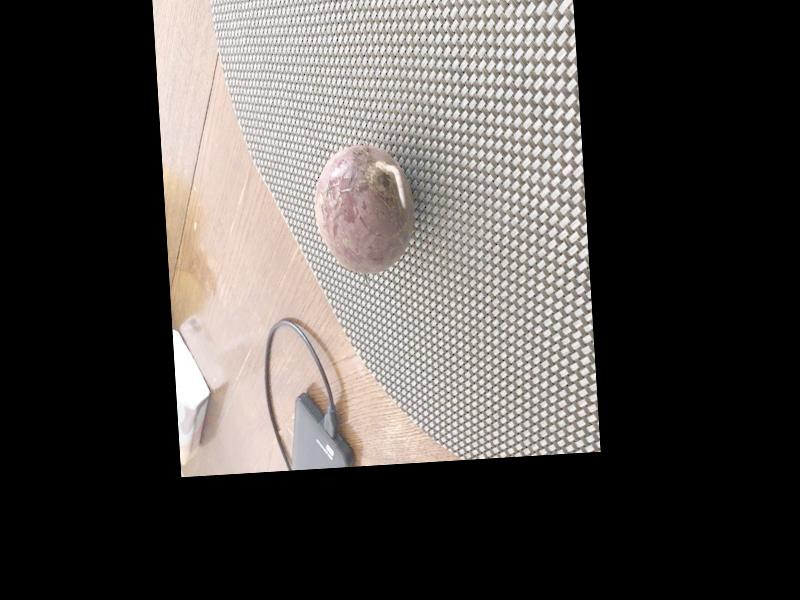Beet: (311, 142, 417, 277)
